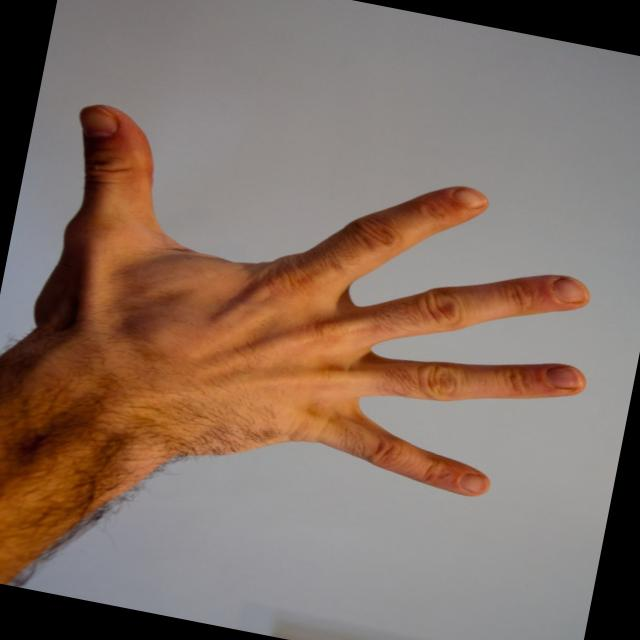Nail: (79, 106, 118, 137), (552, 277, 587, 304), (545, 366, 582, 389), (453, 188, 485, 209), (460, 474, 489, 494)
